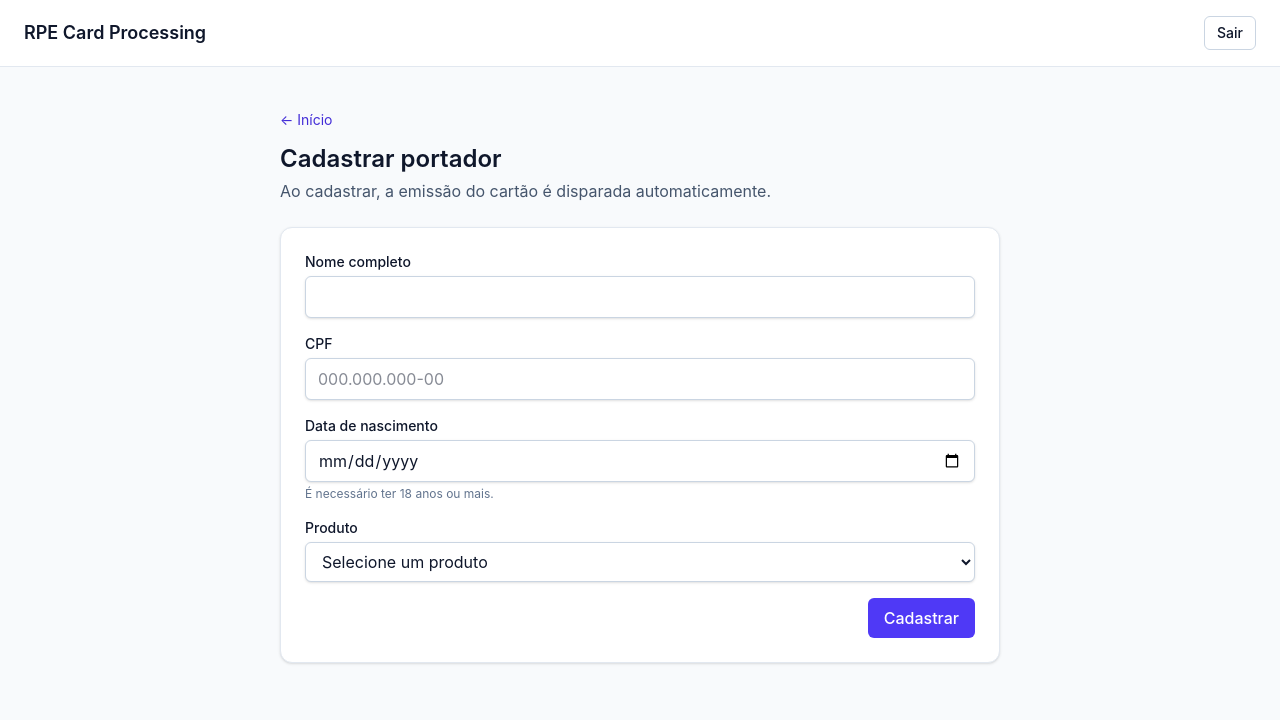
cadastro de portador: envio › deveCadastrarEIrParaODetalheDoPortador
Expected: the dropdown labelled "Produto" is enabled, left=305, top=542, right=975, bottom=582
Type "Victor Rodrigues" into the field labelled "Nome completo" at (640, 297), box left=305, top=276, right=975, bottom=318
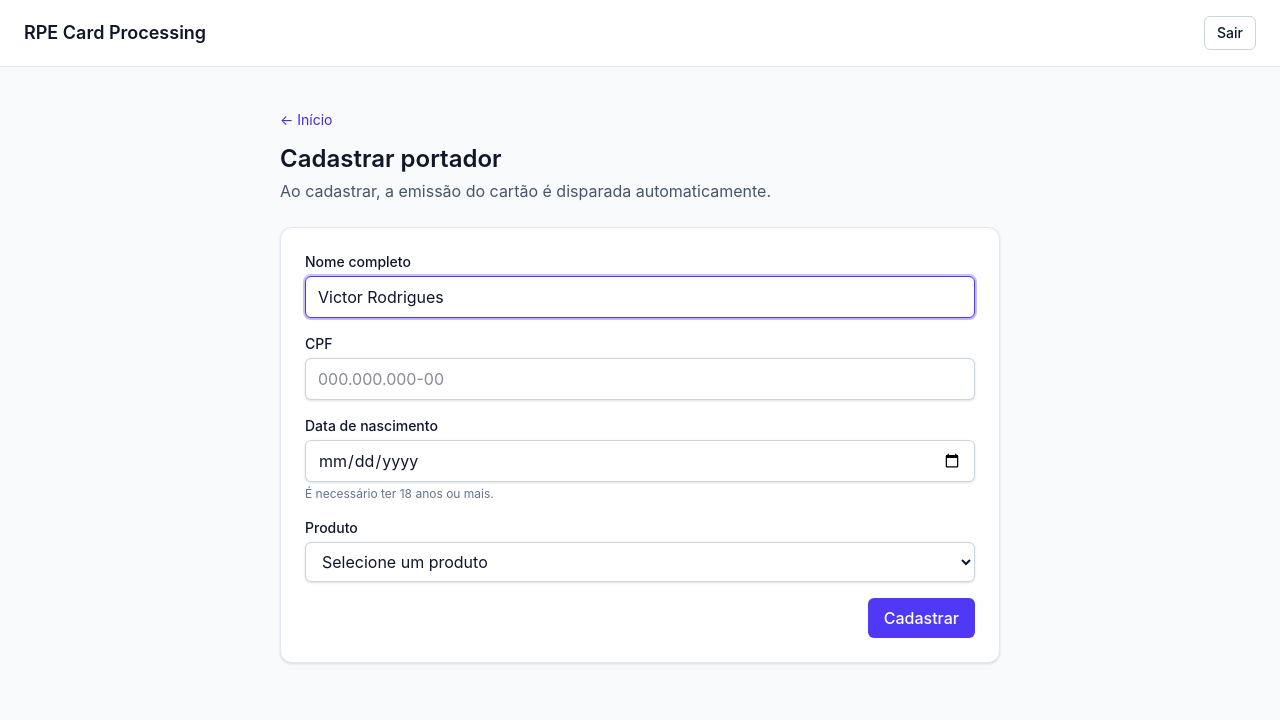
Type "529.982.247-25" into the field labelled "CPF" at (640, 379), box left=305, top=358, right=975, bottom=400
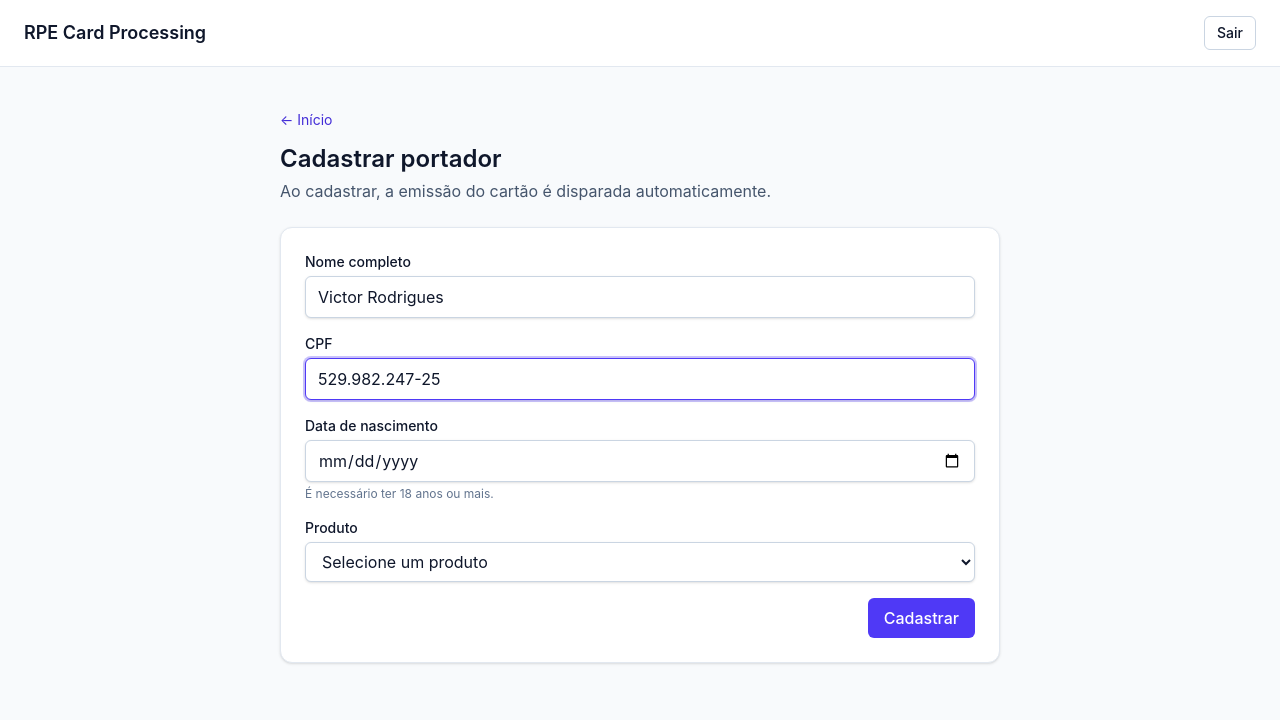
Type "1990-01-31" into the date field labelled "Data de nascimento" at (640, 461), box left=305, top=440, right=975, bottom=482
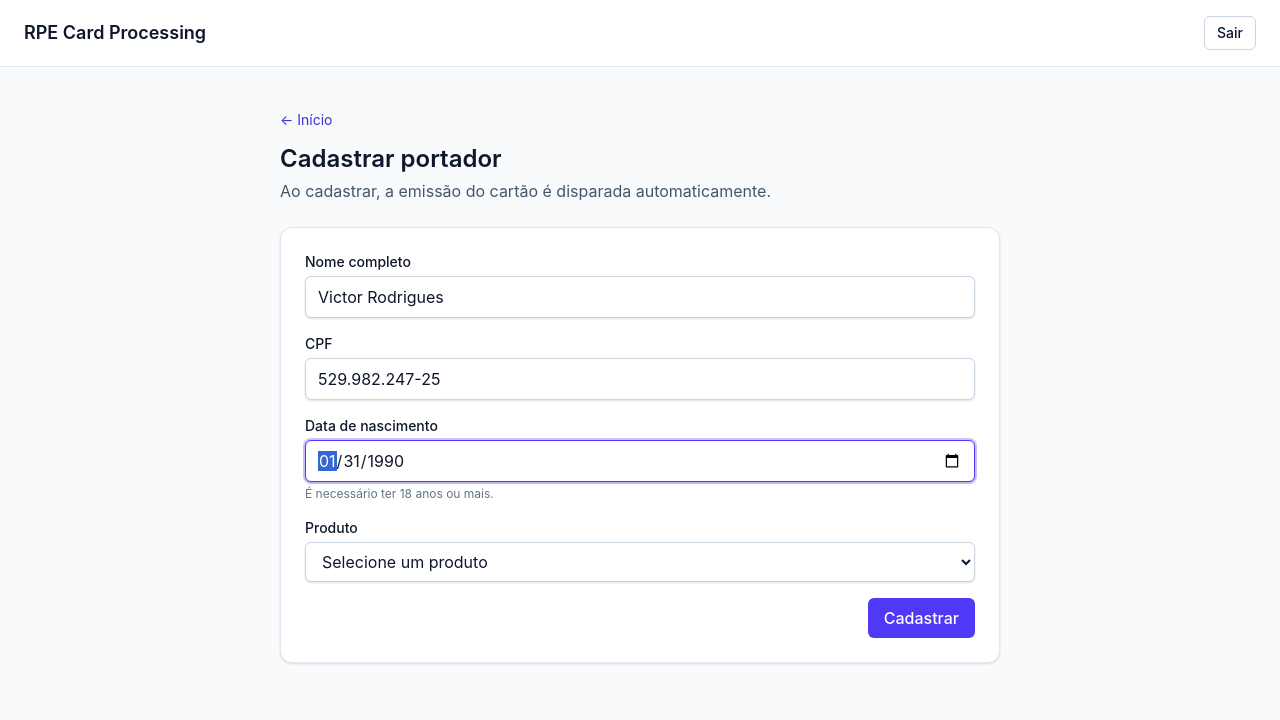
Select "Gold Teste — GOLD" in the dropdown labelled "Produto" at (640, 562), box left=305, top=542, right=975, bottom=582
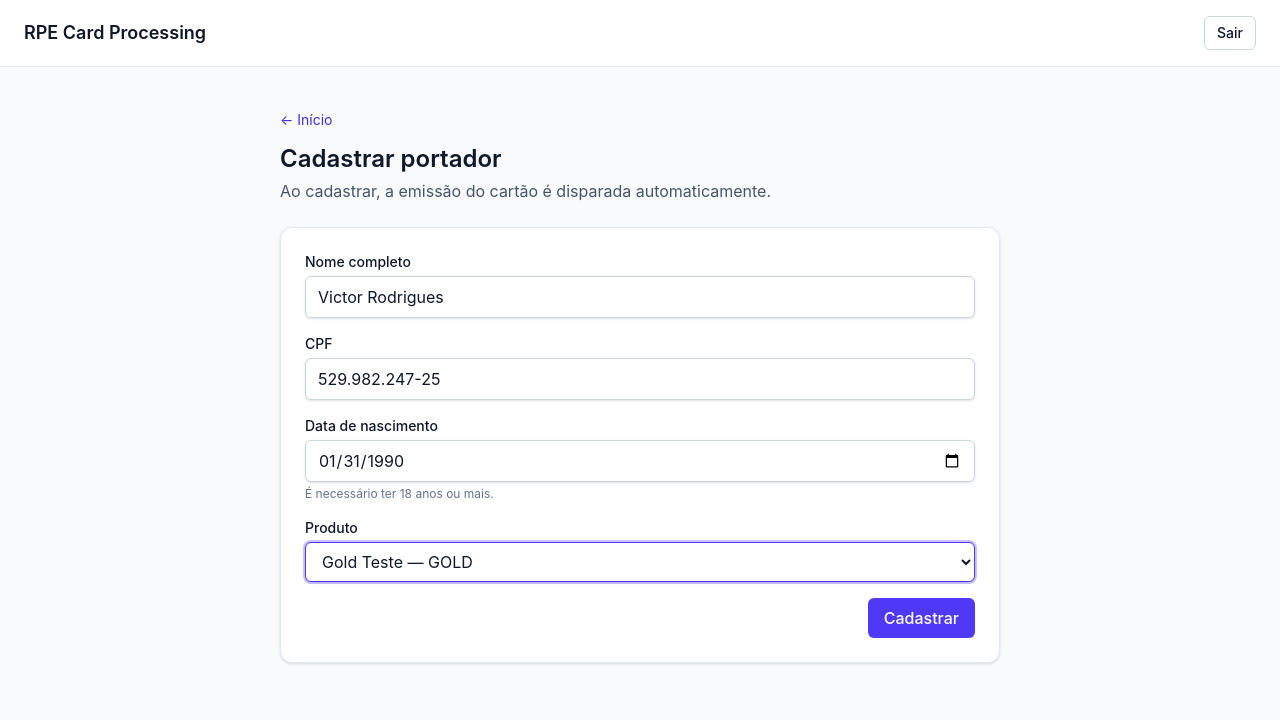
Click the button "Cadastrar" at (921, 618), box left=868, top=598, right=975, bottom=638
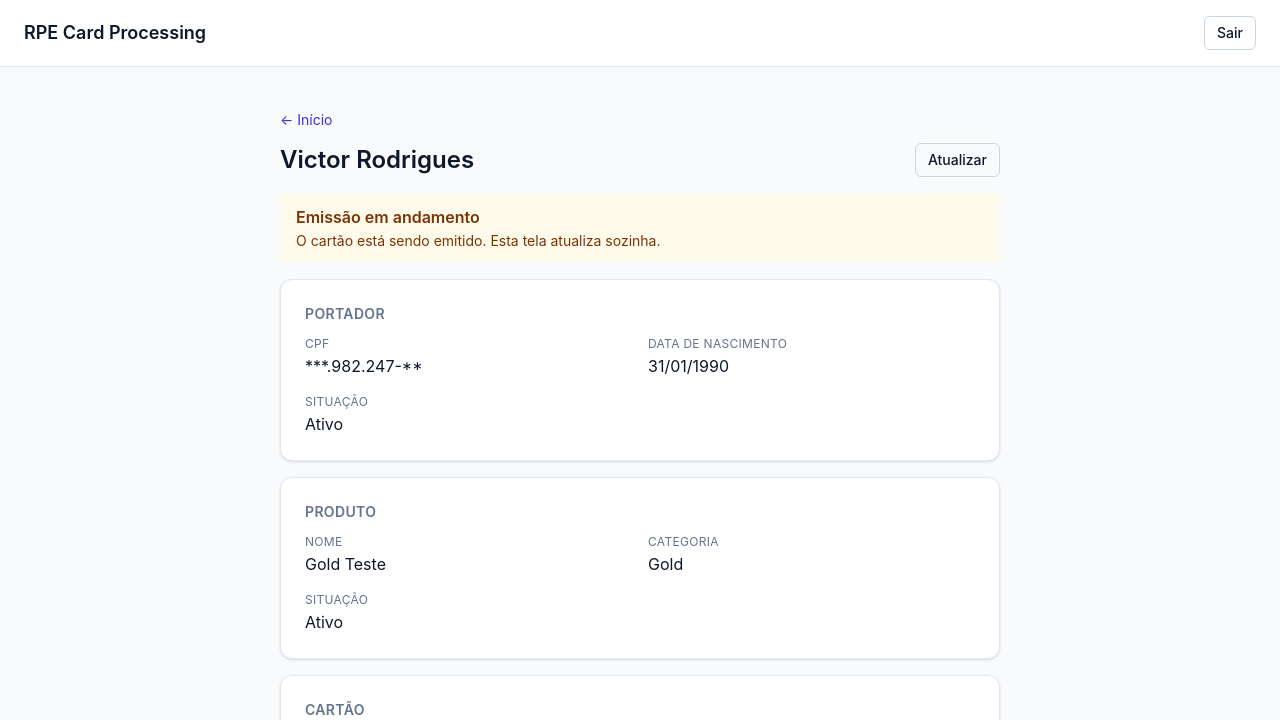
Expected: the heading "Victor Rodrigues" is shown, left=280, top=144, right=474, bottom=176
